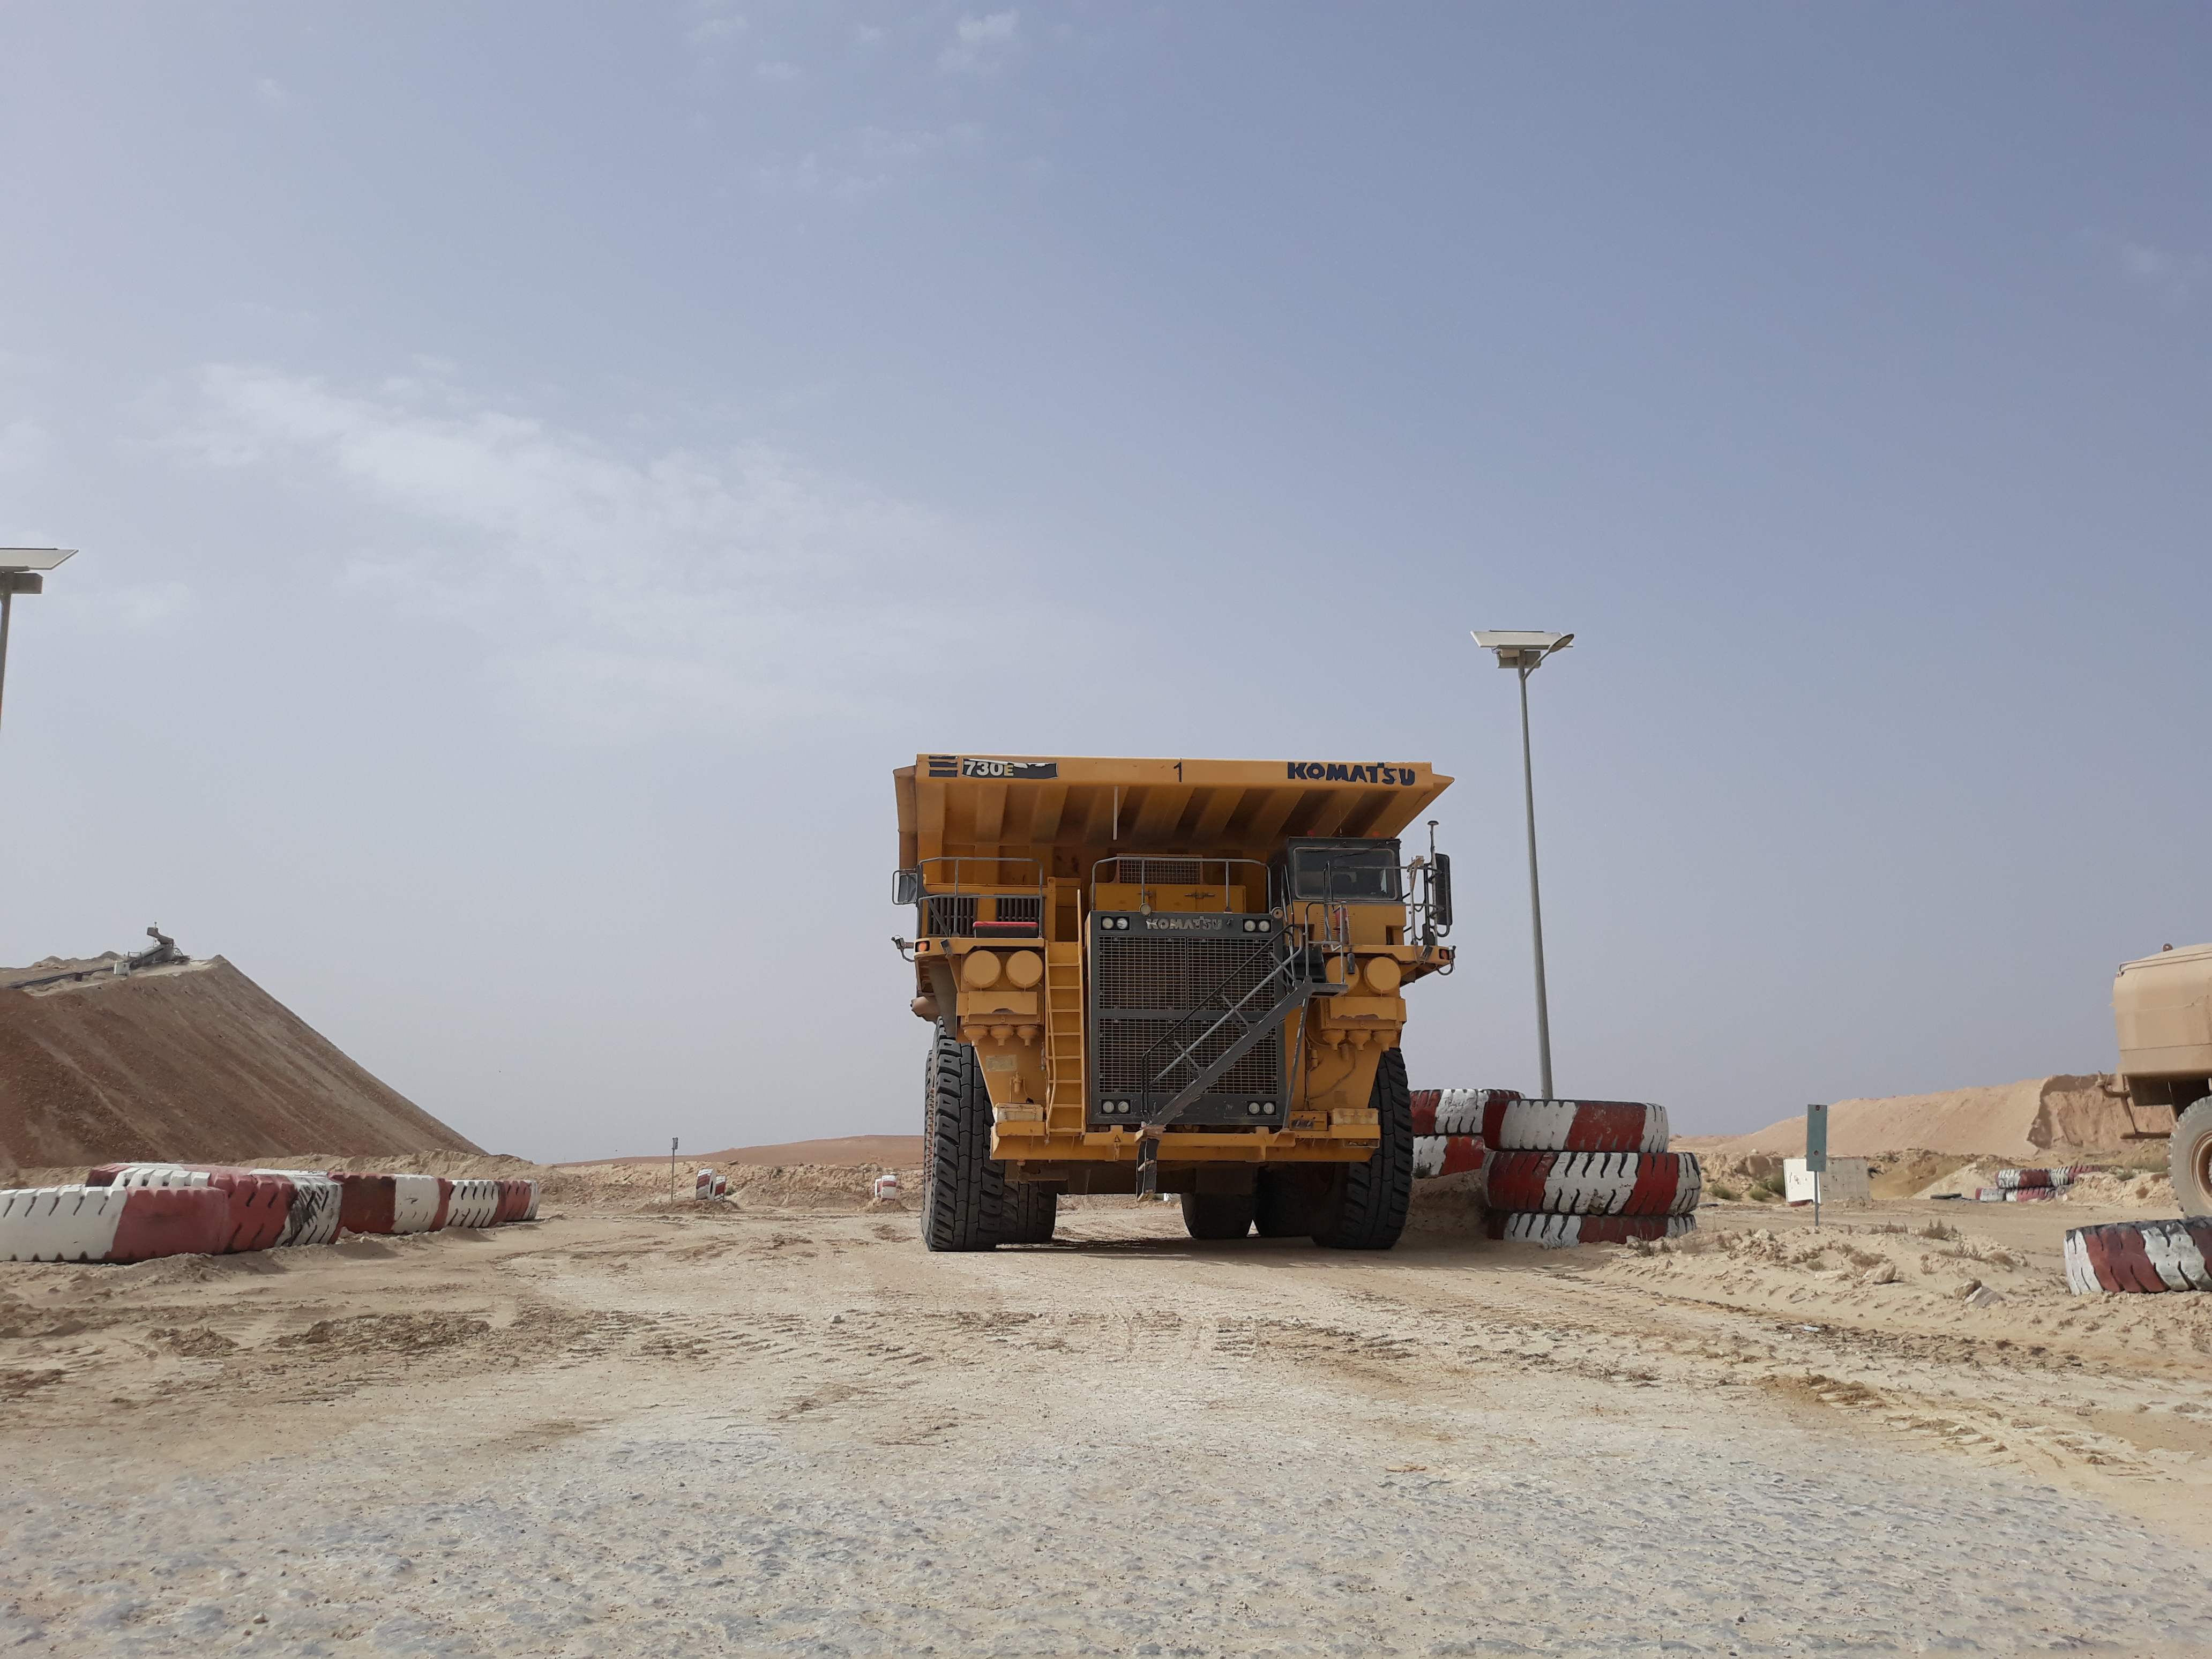camion: (883, 699, 1465, 1279)
